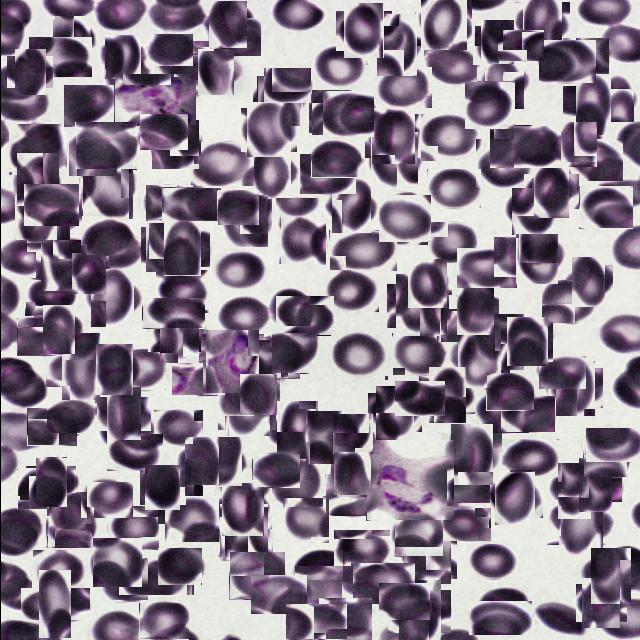red blood cell: (420, 453, 489, 503), (552, 494, 608, 551), (20, 190, 76, 246), (7, 124, 66, 176), (419, 114, 481, 162), (74, 122, 136, 170), (53, 340, 107, 395), (80, 164, 134, 218), (217, 506, 270, 560), (391, 278, 444, 332), (328, 230, 396, 272), (329, 332, 387, 381), (392, 585, 445, 638), (190, 142, 253, 186), (368, 134, 420, 187), (401, 529, 453, 582), (444, 428, 496, 481), (475, 139, 531, 188), (452, 332, 504, 384), (220, 381, 272, 433), (228, 552, 284, 600), (371, 18, 422, 70), (350, 563, 414, 604), (271, 406, 322, 457), (153, 307, 204, 358), (508, 180, 558, 232), (30, 578, 80, 630), (294, 566, 352, 610), (86, 273, 137, 323), (269, 459, 322, 507), (28, 37, 91, 77), (378, 194, 428, 244), (218, 483, 268, 533), (243, 105, 293, 155), (367, 111, 417, 161), (417, 0, 468, 49), (164, 496, 218, 542), (538, 40, 595, 83), (220, 197, 270, 246), (170, 356, 231, 396), (540, 280, 595, 324), (333, 530, 389, 573), (92, 538, 141, 587), (456, 248, 516, 288), (464, 80, 514, 128), (532, 600, 592, 640), (422, 46, 480, 87), (391, 333, 446, 376), (23, 183, 78, 226), (151, 120, 199, 169), (566, 139, 622, 181), (586, 551, 634, 600), (322, 91, 373, 137), (475, 389, 528, 433), (578, 186, 632, 229), (275, 296, 333, 336), (339, 6, 387, 54), (326, 180, 374, 228), (480, 318, 528, 366), (568, 80, 616, 128), (375, 67, 431, 108), (106, 506, 158, 550), (324, 270, 378, 312), (63, 85, 117, 127), (491, 474, 538, 522), (247, 148, 294, 196), (551, 364, 598, 412), (12, 156, 60, 203), (152, 41, 208, 81), (299, 154, 355, 194), (284, 604, 346, 640), (318, 598, 371, 640), (312, 46, 366, 87), (253, 77, 300, 124), (37, 242, 84, 289), (370, 390, 418, 436), (422, 372, 470, 418), (278, 218, 326, 264), (70, 130, 116, 178), (302, 414, 348, 462), (270, 326, 316, 374), (324, 474, 376, 516), (250, 575, 306, 614), (501, 439, 558, 477), (158, 225, 204, 272), (426, 169, 480, 209), (90, 226, 139, 270), (393, 512, 442, 556), (468, 601, 531, 635), (283, 497, 329, 543), (480, 60, 526, 106), (550, 468, 596, 514), (514, 236, 560, 282), (504, 318, 550, 364), (518, 0, 565, 45), (426, 222, 476, 264), (155, 270, 207, 310), (106, 434, 162, 471), (152, 474, 198, 519), (31, 550, 84, 589), (250, 336, 299, 378), (217, 298, 271, 336), (211, 251, 265, 289), (138, 559, 193, 596), (528, 169, 573, 214), (578, 580, 622, 626), (116, 349, 165, 390), (274, 198, 324, 238), (436, 296, 480, 341), (199, 440, 244, 484), (91, 347, 136, 391), (205, 1, 249, 46), (24, 278, 76, 316), (513, 126, 560, 168), (46, 507, 94, 548), (141, 298, 204, 329), (210, 18, 260, 57), (101, 411, 151, 450), (161, 187, 220, 220), (500, 396, 554, 432), (142, 225, 186, 269), (404, 262, 448, 306), (592, 76, 636, 120), (101, 392, 145, 436), (572, 463, 616, 507), (494, 237, 542, 277), (26, 408, 76, 446), (310, 140, 360, 178), (491, 126, 534, 170), (378, 583, 429, 620), (561, 38, 608, 78), (465, 544, 517, 580), (80, 220, 133, 255), (138, 603, 188, 640), (104, 558, 146, 602), (585, 428, 639, 462), (485, 373, 533, 411), (310, 91, 352, 134), (50, 18, 93, 60), (152, 410, 202, 446), (144, 185, 192, 222), (566, 261, 608, 303), (454, 290, 496, 332), (394, 381, 444, 416), (582, 440, 628, 478), (439, 508, 490, 542), (262, 68, 310, 104), (139, 114, 187, 150), (195, 51, 236, 93), (181, 440, 222, 482), (17, 318, 62, 356), (156, 548, 201, 586), (271, 288, 309, 333), (479, 588, 529, 622), (17, 468, 58, 509), (30, 461, 71, 502), (37, 309, 78, 350), (557, 124, 598, 165), (45, 400, 94, 434), (86, 482, 132, 518), (332, 414, 373, 454), (251, 454, 299, 488), (102, 37, 142, 77), (238, 374, 278, 414), (332, 453, 372, 493), (142, 468, 182, 508), (538, 356, 585, 389), (477, 23, 516, 62), (10, 52, 48, 92), (216, 190, 258, 226), (496, 30, 543, 62), (292, 550, 342, 580), (48, 492, 86, 530), (147, 34, 192, 66), (68, 255, 106, 292)
trophozoite: (365, 440, 453, 521), (113, 74, 195, 126), (202, 332, 260, 390)
